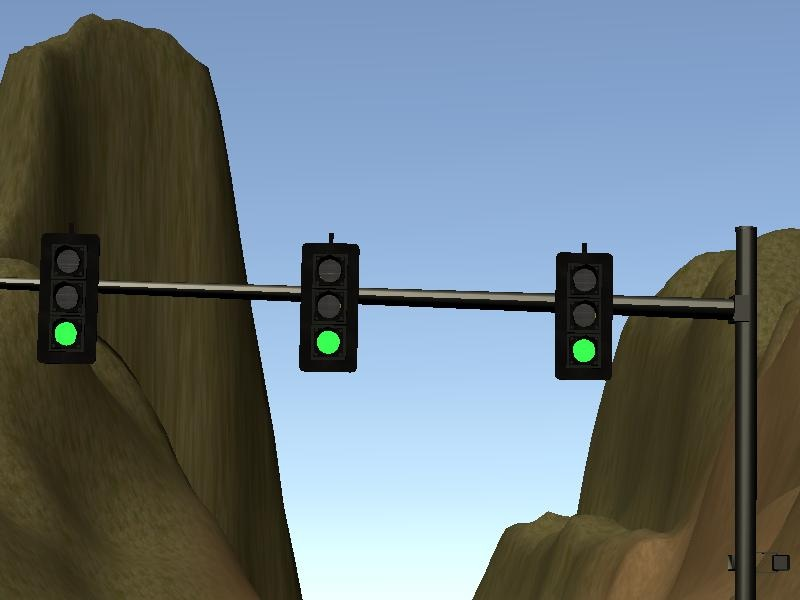GREEN: (36, 232, 102, 361), (552, 251, 614, 381), (299, 241, 359, 374)
